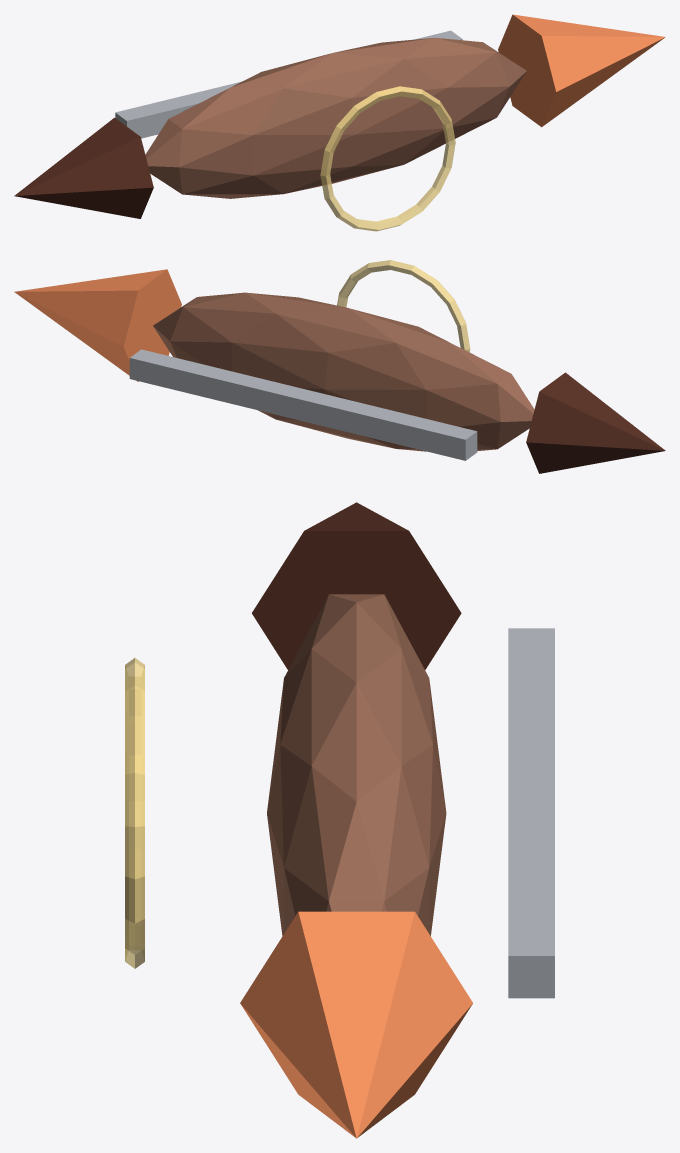
File: 05_skyship_hull.glb
The picture shows the model from 3 angles, top to bottom: view 1: azimuth 30°, elevation 25°; view 2: azimuth 150°, elevation 25°; view 3: azimuth 270°, elevation 25°; orthographic projection. The views are drawn at different scales.
Parts seen in each view (by area): view 1: hull_low_poly, bow_upgrade, stern_fin, size_class_ring, keel_plate; view 2: hull_low_poly, keel_plate, bow_upgrade, stern_fin, size_class_ring; view 3: hull_low_poly, bow_upgrade, keel_plate, stern_fin, size_class_ring.
Boxes of the visible parts, left/top/right/bottom form: hull_low_poly: left=145, top=37, right=526, bottom=198; bow_upgrade: left=498, top=14, right=665, bottom=127; stern_fin: left=14, top=117, right=153, bottom=218; size_class_ring: left=320, top=86, right=455, bottom=231; keel_plate: left=115, top=30, right=462, bottom=138; hull_low_poly: left=153, top=292, right=534, bottom=451; keel_plate: left=129, top=349, right=477, bottom=460; bow_upgrade: left=14, top=269, right=181, bottom=381; stern_fin: left=526, top=372, right=665, bottom=473; size_class_ring: left=337, top=260, right=470, bottom=352; hull_low_poly: left=267, top=594, right=446, bottom=935; bow_upgrade: left=240, top=911, right=472, bottom=1138; keel_plate: left=508, top=628, right=554, bottom=998; stern_fin: left=252, top=502, right=461, bottom=669; size_class_ring: left=125, top=658, right=144, bottom=968.
Bounding box in the file's own units: 2.58 × 0.5279 × 0.7371.
